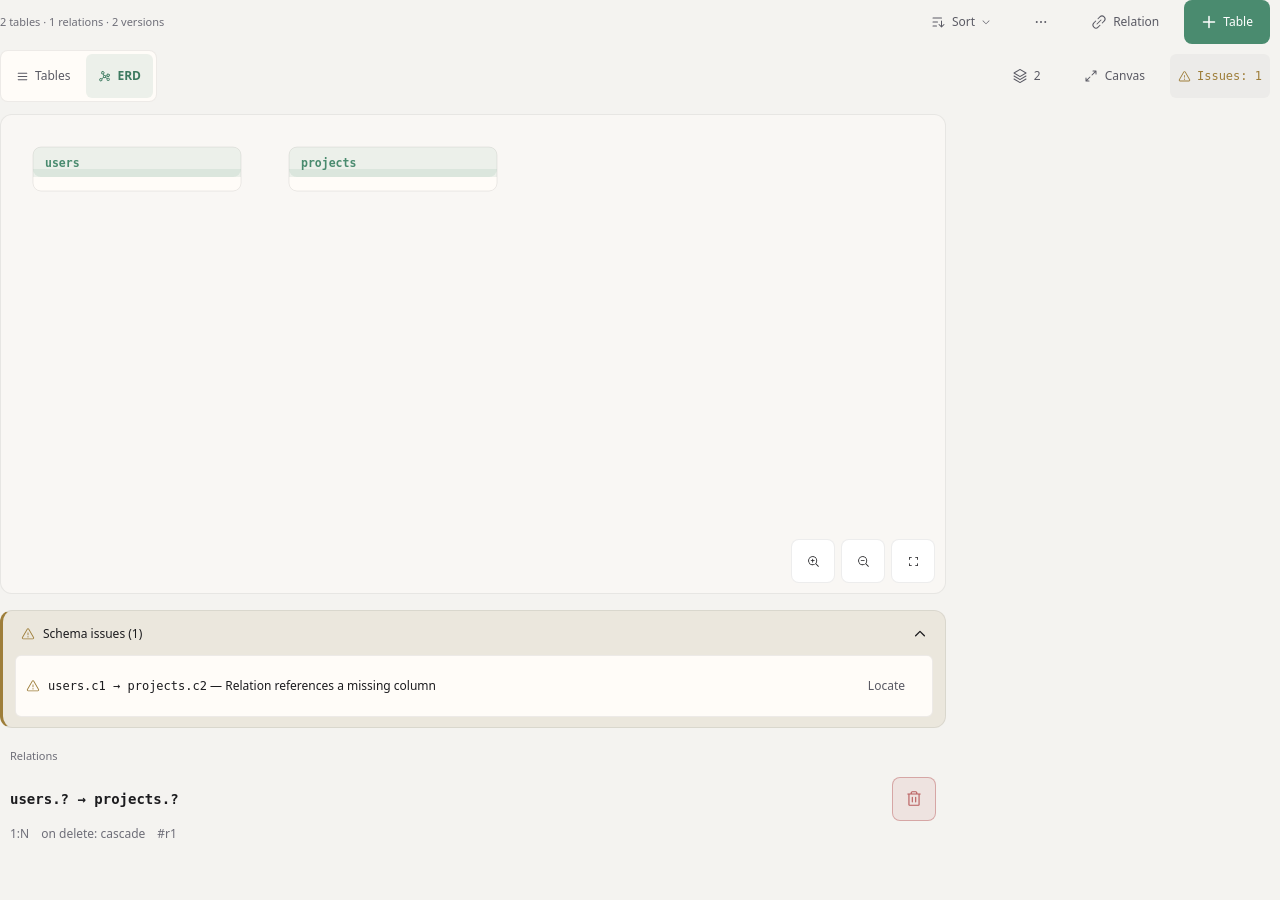
Test case: SchemaPage mobile header › opens versions from the compact button (no inline bar)
Expected: the button "Canvas" is shown, [1066, 54, 1162, 98]
Click the button named "Schema versions": click(1026, 76) [995, 54, 1058, 98]
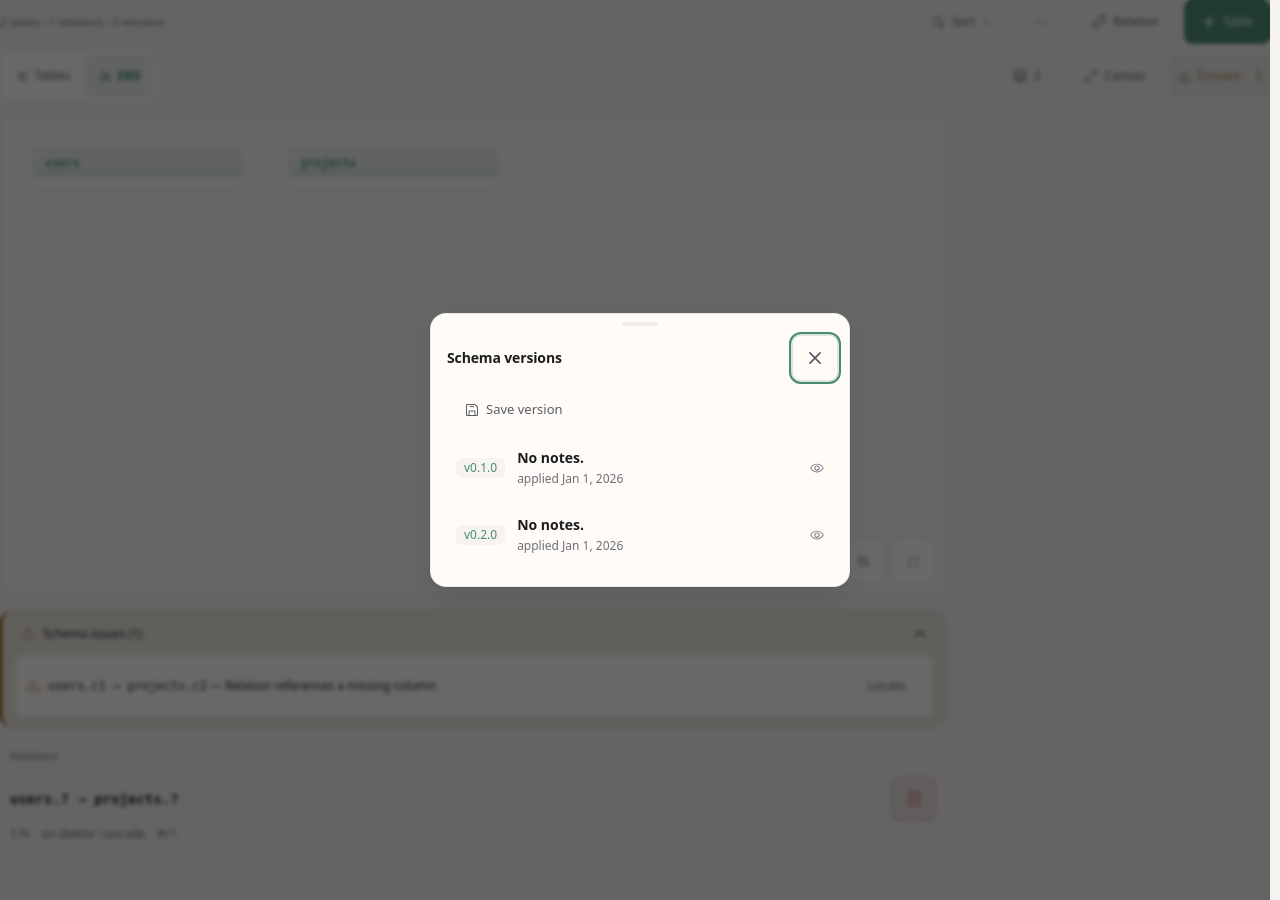
Now the dialog is shown, box [430, 313, 850, 587]
Click the button "v0.1.0 No notes. applied Jan 1, 2026": click(481, 468) [447, 436, 833, 499]
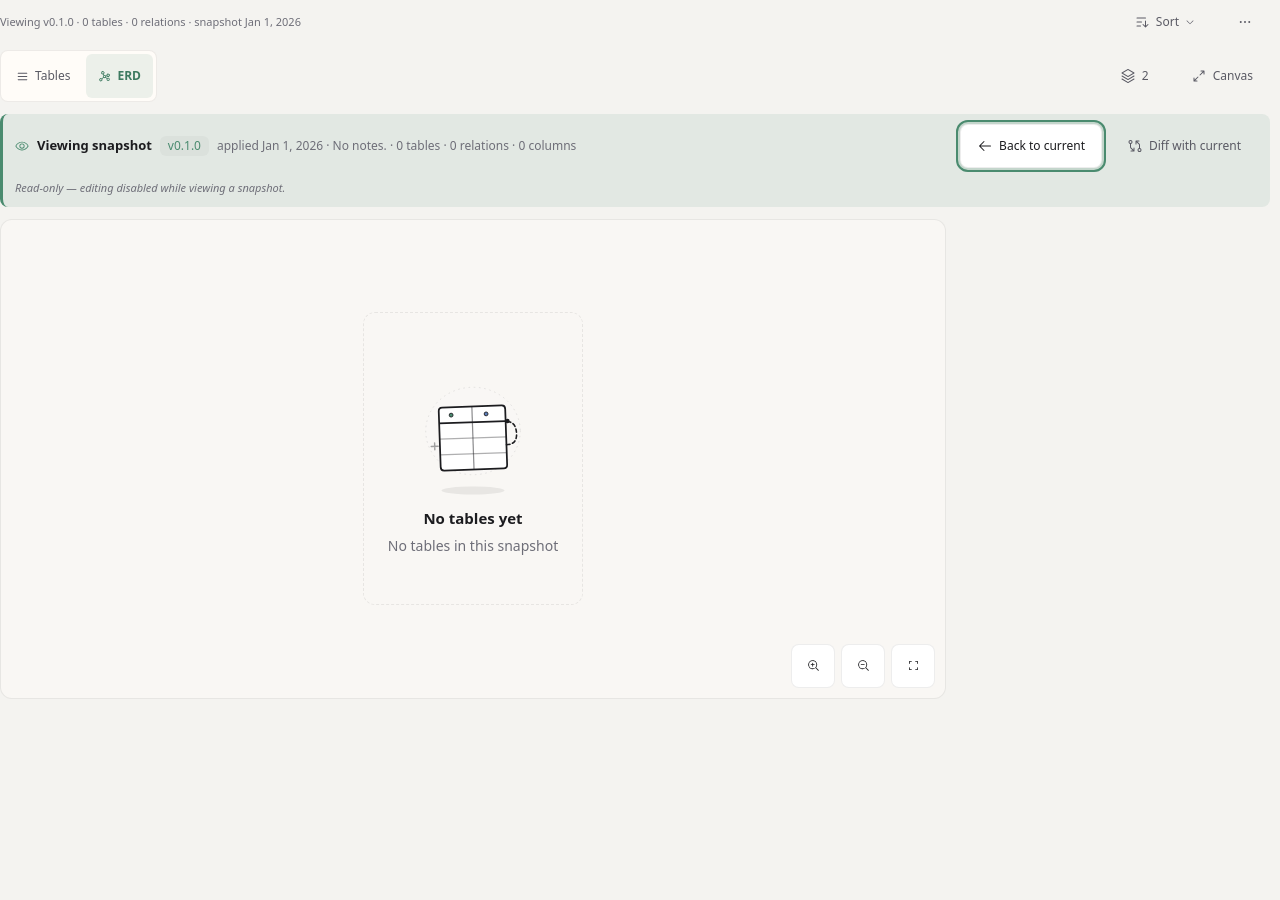
Now the dialog is gone
